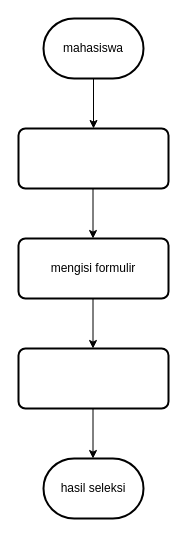
The diagram is 186 pixels wide and 536 high, and some of its shapes have lost their labels. The shapes that lost their labels are listed below. From the top down, each one's centre as x and y in pixels, then its label:
point 93,158: mengakses website seleksi
point 93,378: klil tombol "Hitung"
